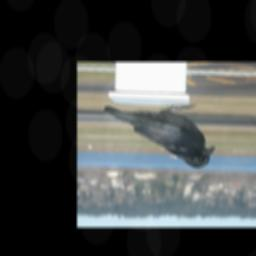Crow: (102, 104, 215, 169)
